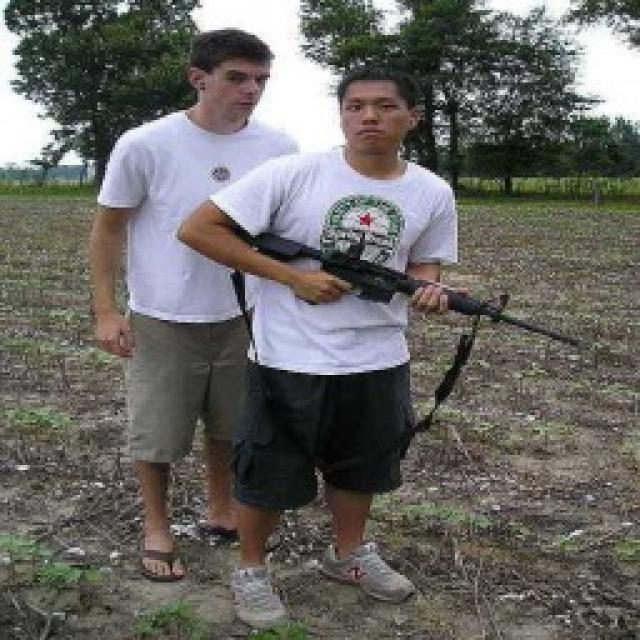long weapon: (230, 224, 559, 366)
